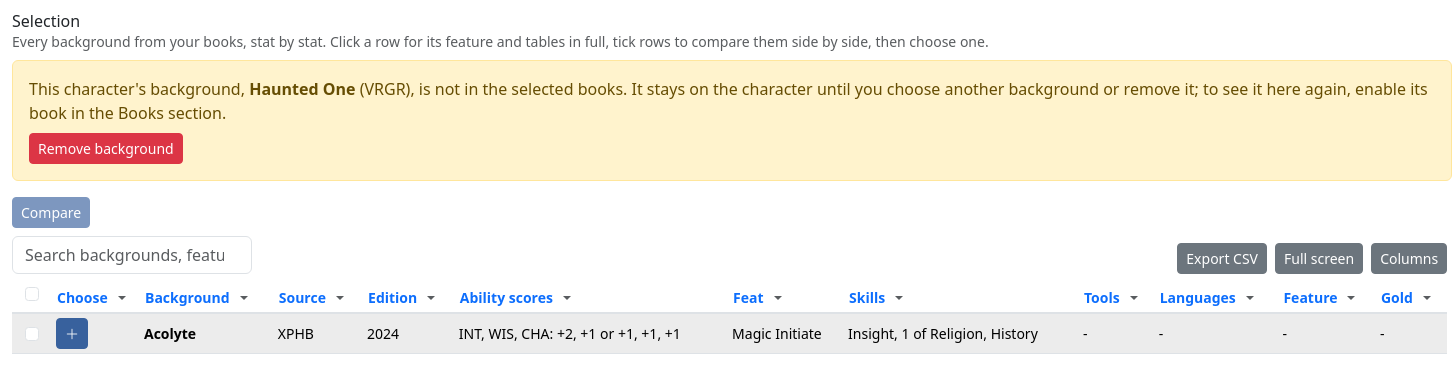
BackgroundSelection › warns about a background outside the selected books, and removes it
The image size is (1452, 371).
Expected: the text "is not in the selected books" shows "This character's background, Haunted One (VRGR), is not in the selected books.", 12,60 -> 1451,181
Expected: the table named "Background reference" is shown, 12,282 -> 1447,354
Step 1. Click the button "Remove background" → point(106, 149), box 29,133 -> 183,164
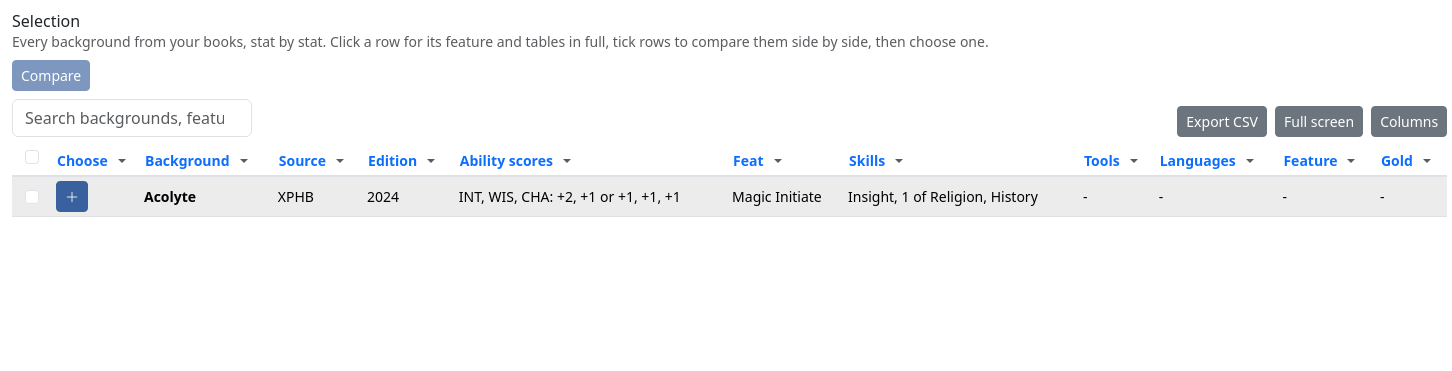
Expected: the text "is not in the selected books" is gone
